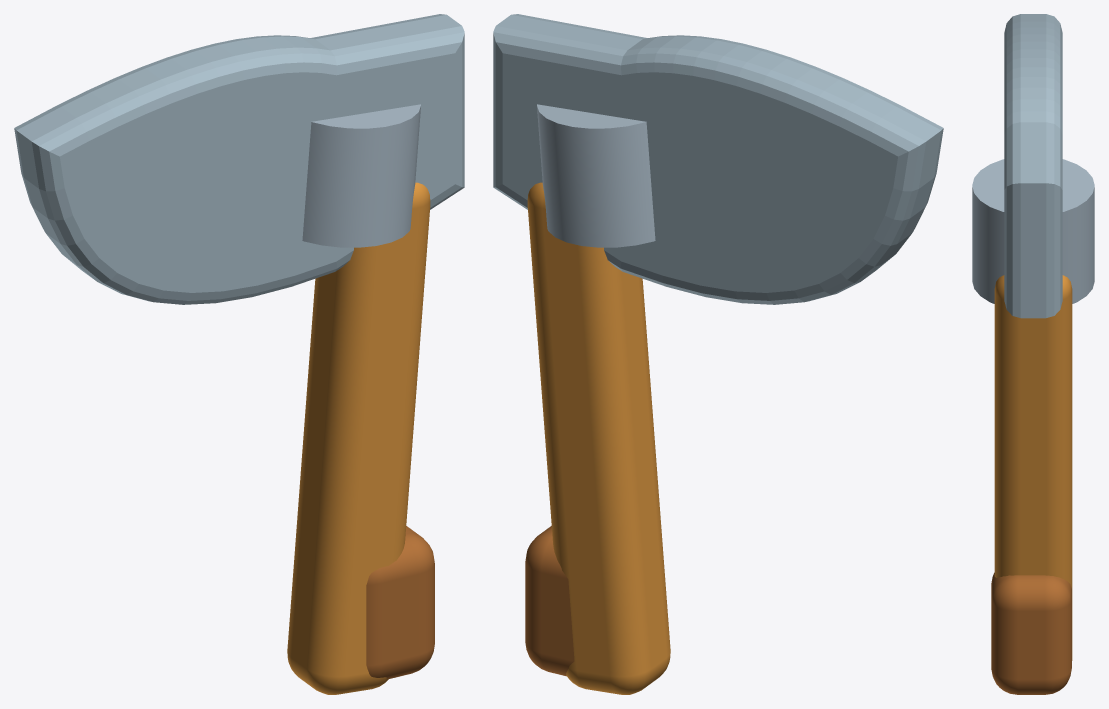
File: Axe.glb
The picture shows the model from 3 angles, left to right: view 1: azimuth 30°, elevation 25°; view 2: azimuth 150°, elevation 25°; view 3: azimuth 270°, elevation 25°; orthographic projection. The views are drawn at different scales.
Visible parts, largest first — view 1: Axe; view 2: Axe; view 3: Axe.
Part boxes in pixels (box(x1,y1,x2,y2)): Axe: box(14, 14, 464, 694); Axe: box(493, 14, 943, 694); Axe: box(972, 14, 1094, 694).
Bounding box in the file's own units: 0.6532 × 0.9615 × 0.19.
